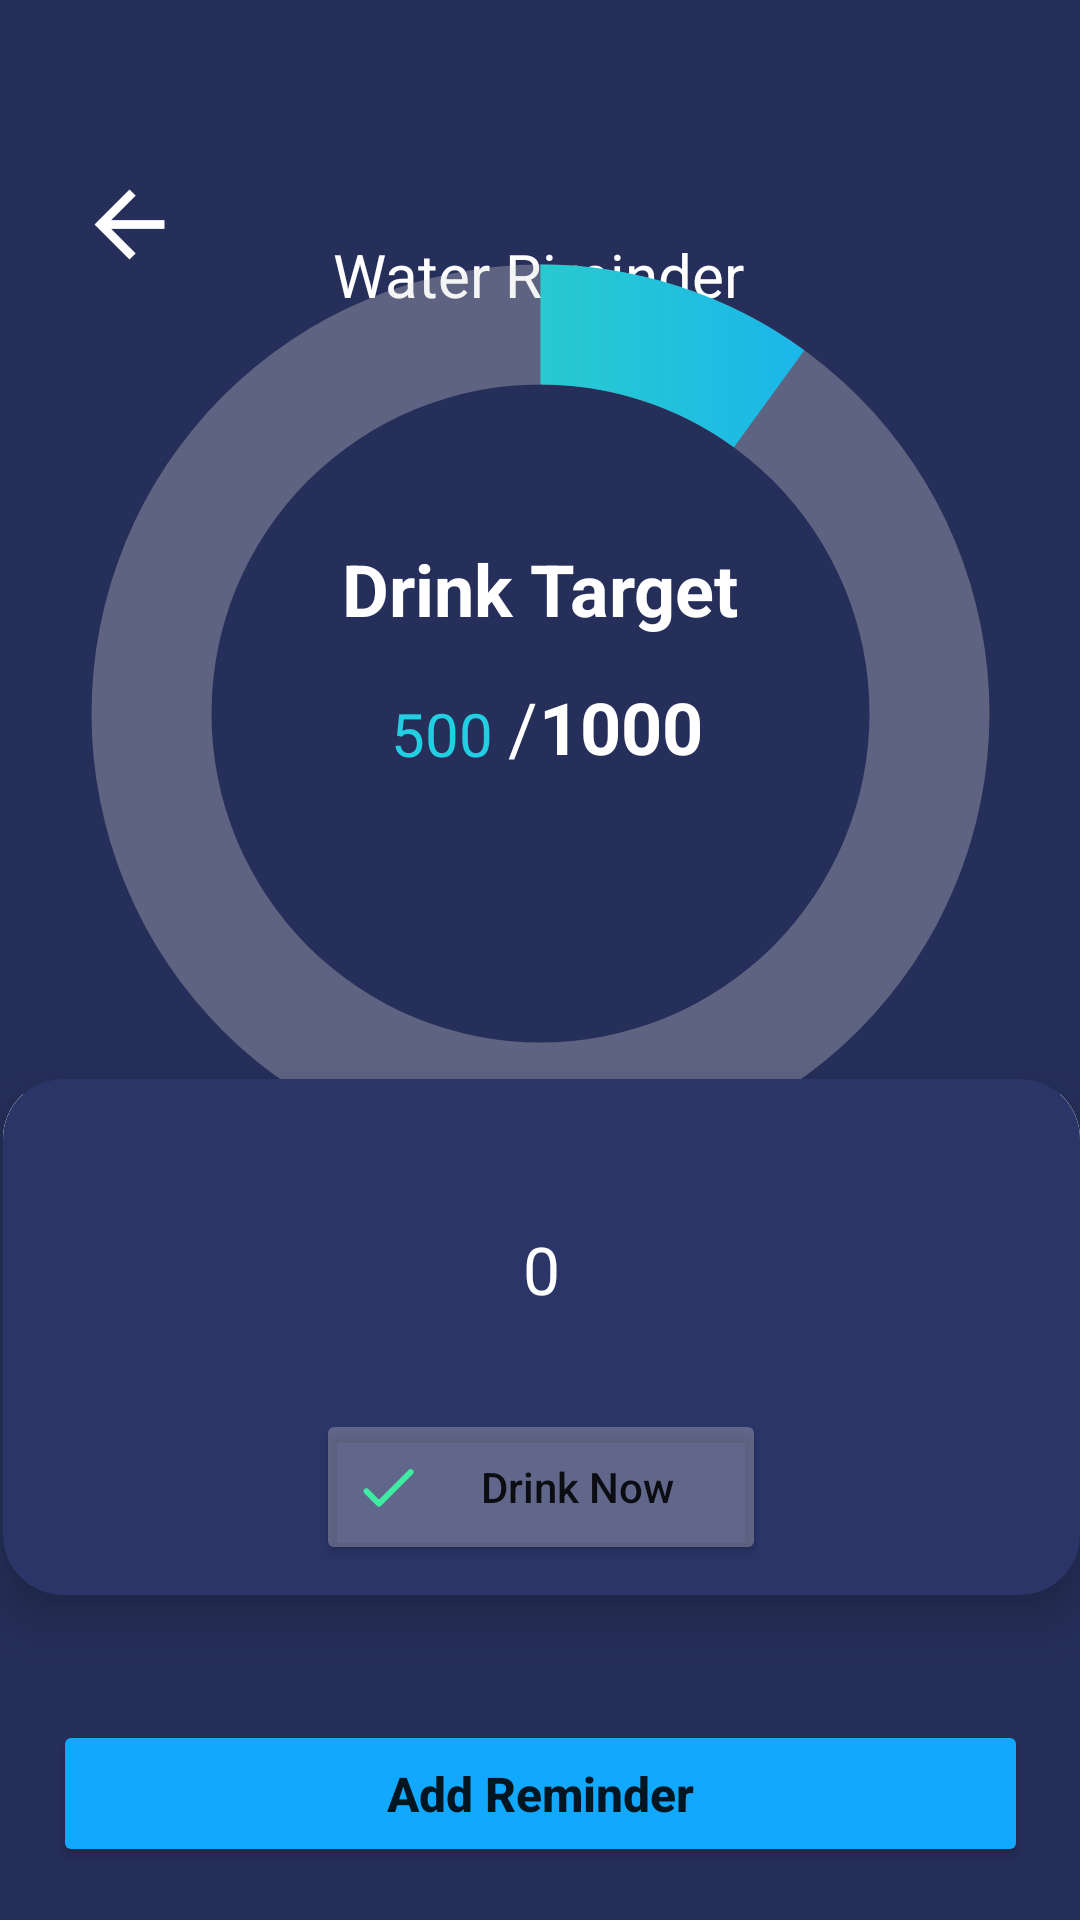

Locate icon controls on the screen. Image size 1080*1920, boxes as [x1,y1,x2,y2].
back: [94,189,165,260]
